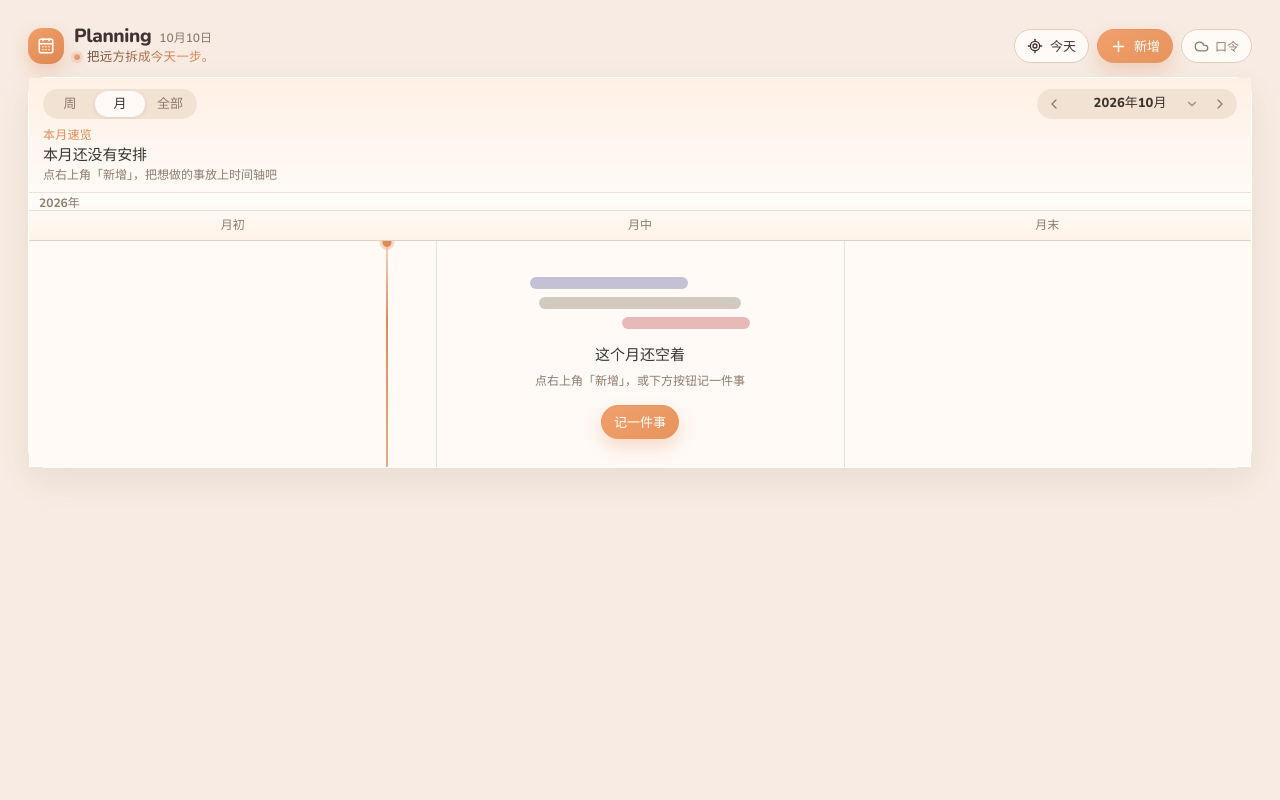
Test: Planning › opens a compact task form from the primary add action
What coordinates should you click on to do the following:
click the button with aria-label "新增事项"
I would click on:
 (1135, 46)
Its box is [1097, 29, 1173, 63].
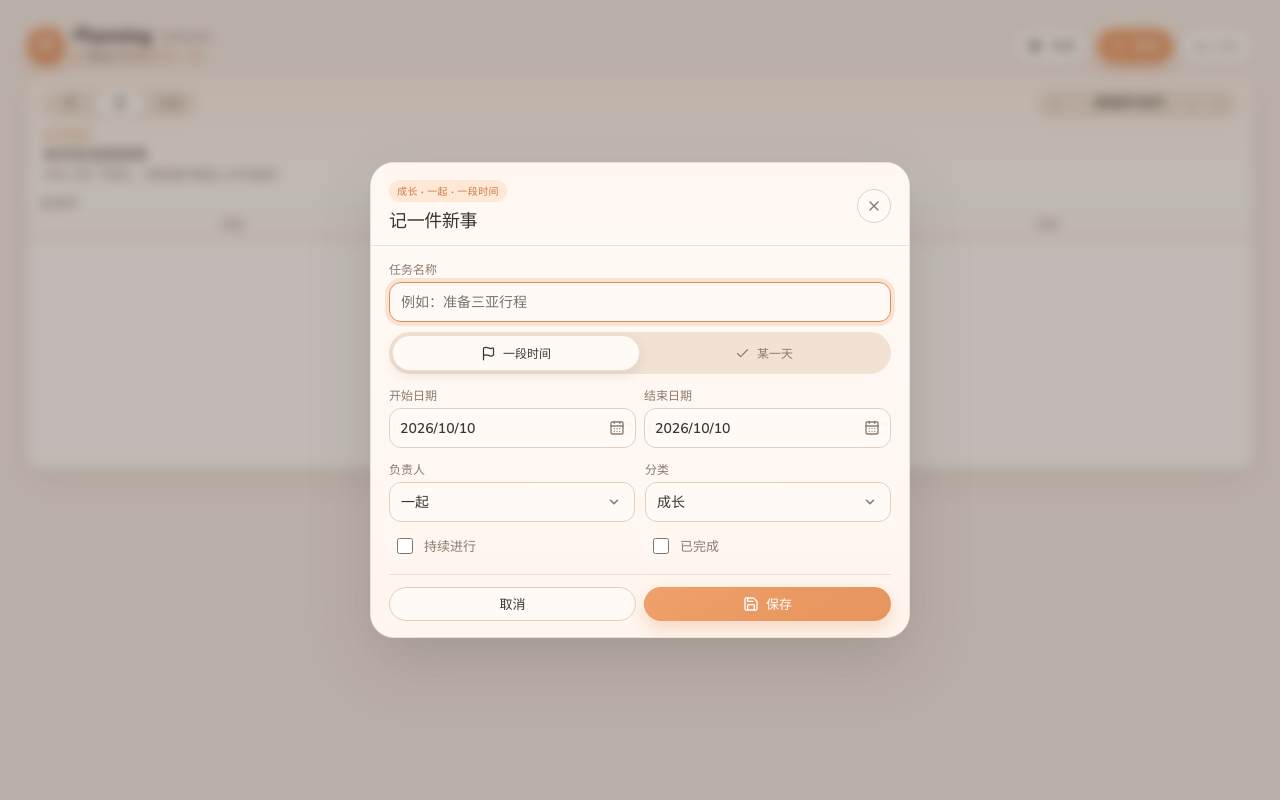
Now the dialog "记一件新事" is shown, box [370, 162, 910, 638]
Now the field labelled "任务名称" is shown, box [389, 282, 891, 322]
Now the date field labelled "开始日期" is shown, box [389, 408, 636, 448]
